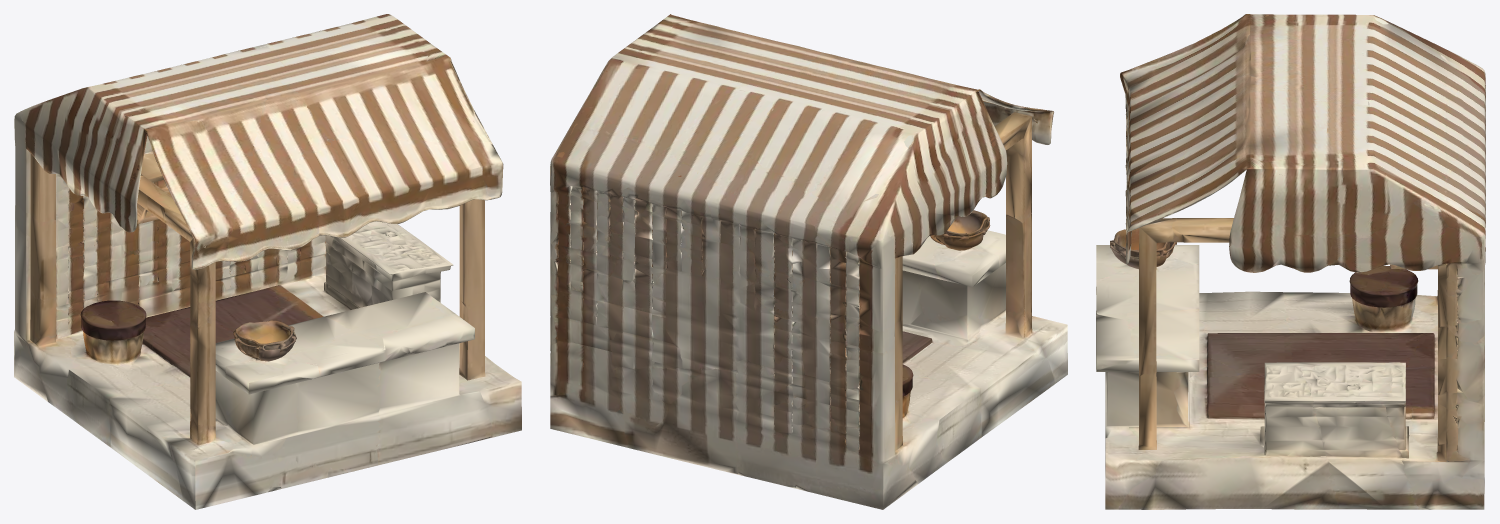
File: Meshy_AI_A_market_stall_A_low_0808145834_texture.glb
3 renders of one model, left to right at view 1: azimuth 30°, elevation 25°; view 2: azimuth 150°, elevation 25°; view 3: azimuth 270°, elevation 25°, orthographic. The views are drawn at different scales.
Visible parts, largest first — view 1: mesh_node; view 2: mesh_node; view 3: mesh_node.
Part boxes in pixels (<box>): mesh_node: <box>14,14,521,509</box>; mesh_node: <box>550,14,1067,509</box>; mesh_node: <box>1096,14,1485,509</box>.
Size of the model in its own units: 1.9 by 1.77 by 1.84.
Materials: 1 (1 with a texture image).
